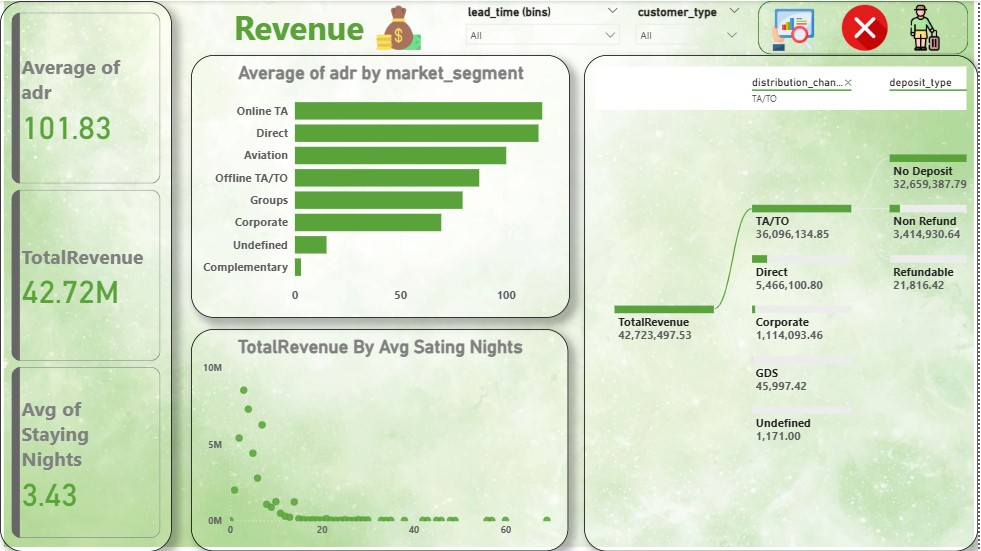

The dashboard page shown, as its layout file describes it:
{"tool":"powerbi","page":{"name":"Revenue","canvas":[1280,720],"ordinal":1},"visuals":[{"type":"image","box":[0,-38.9,1280.2,758.9],"z":0},{"type":"decompositionTreeVisual","fields":{"Analyze":["MyMeasures.TotalRevenue"],"ExplainBy":["FactReservation.distribution_channel","FactReservation.deposit_type"]},"box":[764.3,70.6,515.7,650.1],"z":1000},{"type":"scatterChart","title":"TotalRevenue By Avg Sating Nights ","fields":{"Category":["FactReservation.total_nights"],"X":["Avg(FactReservation.total_nights)"],"Y":["MyMeasures.TotalRevenue"]},"box":[250.3,430,493.9,290.6],"z":2000},{"type":"clusteredBarChart","fields":{"Y":["Avg(FactReservation.adr)"],"Category":["FactReservation.market_segment"]},"box":[250.3,70.6,495.5,344.4],"z":3000},{"type":"cardVisual","fields":{"Data":["Avg(FactReservation.adr)","MyMeasures.TotalRevenue","Avg(FactReservation.total_nights)"]},"box":[0,0,225.1,720.6],"z":4000},{"type":"shape","box":[992.9,0,275.1,70.1],"z":5000},{"type":"image","box":[1003.2,5.1,70.1,64.9],"z":6000},{"type":"image","box":[1093.7,0,78.6,70.1],"z":7000},{"type":"image","box":[1172.3,0,75.2,70.1],"z":8000},{"type":"textbox","box":[300.8,0,299.1,70.1],"z":9000},{"type":"image","box":[481.9,0,80.3,70.1],"z":10000},{"type":"slicer","fields":{"Values":["FactReservation.customer_type"]},"box":[822,0,158.9,70.1],"z":11000},{"type":"slicer","fields":{"Values":["FactReservation.lead_time (bins)"]},"box":[599.8,0,222.2,70.1],"z":12000}]}

Visuals, with their boxes in screenshot pixels (x1, y1, x2, y2), scaled from the page's 1280x720 canvas onto the 981x551 screenshot:
image: bbox=(0, 0, 980, 550)
decompositionTreeVisual - MyMeasures.TotalRevenue x FactReservation.distribution_channel: bbox=(586, 54, 980, 550)
"TotalRevenue By Avg Sating Nights " scatterChart: bbox=(192, 329, 570, 550)
clusteredBarChart - Avg(FactReservation.adr) x FactReservation.market_segment: bbox=(192, 54, 572, 318)
cardVisual - Avg(FactReservation.adr) x MyMeasures.TotalRevenue: bbox=(0, 0, 173, 550)
shape: bbox=(761, 0, 972, 54)
image: bbox=(769, 4, 823, 54)
image: bbox=(838, 0, 898, 54)
image: bbox=(898, 0, 956, 54)
textbox: bbox=(231, 0, 460, 54)
image: bbox=(369, 0, 431, 54)
slicer - FactReservation.customer_type: bbox=(630, 0, 752, 54)
slicer - FactReservation.lead_time (bins): bbox=(460, 0, 630, 54)
